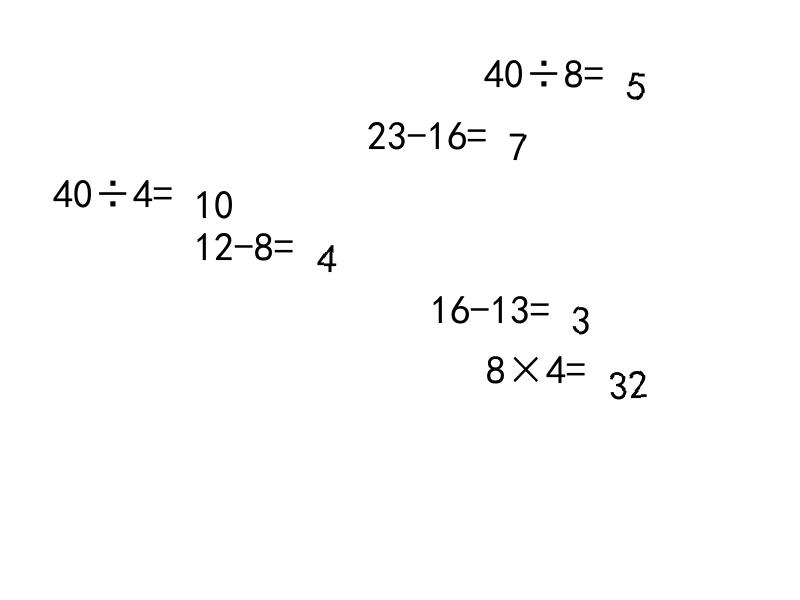-: (407, 115, 427, 144), (234, 226, 254, 255), (470, 289, 490, 318)
0: (504, 53, 524, 82), (73, 173, 93, 202), (203, 173, 223, 202)
1: (427, 115, 447, 144), (183, 173, 203, 202), (194, 226, 214, 255), (430, 289, 450, 318), (490, 289, 510, 318)
2: (367, 115, 387, 144), (214, 226, 234, 255), (616, 349, 636, 377)
3: (387, 115, 407, 144), (510, 289, 530, 318), (560, 289, 580, 318), (596, 349, 616, 377)
4: (484, 53, 504, 82), (53, 173, 73, 202), (133, 173, 153, 202), (304, 226, 324, 255), (546, 349, 566, 377)
5: (614, 53, 634, 82)
6: (447, 115, 467, 144), (450, 289, 470, 318)
7: (497, 115, 517, 144)
8: (564, 53, 584, 82), (254, 226, 274, 255), (486, 349, 506, 377)
=: (584, 53, 604, 82), (467, 115, 487, 144), (153, 173, 173, 202), (274, 226, 294, 255), (530, 289, 550, 318), (566, 349, 586, 377)
×: (506, 349, 546, 377)
÷: (524, 53, 564, 82), (93, 173, 133, 202)
